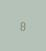eight: (19, 19, 24, 31)
